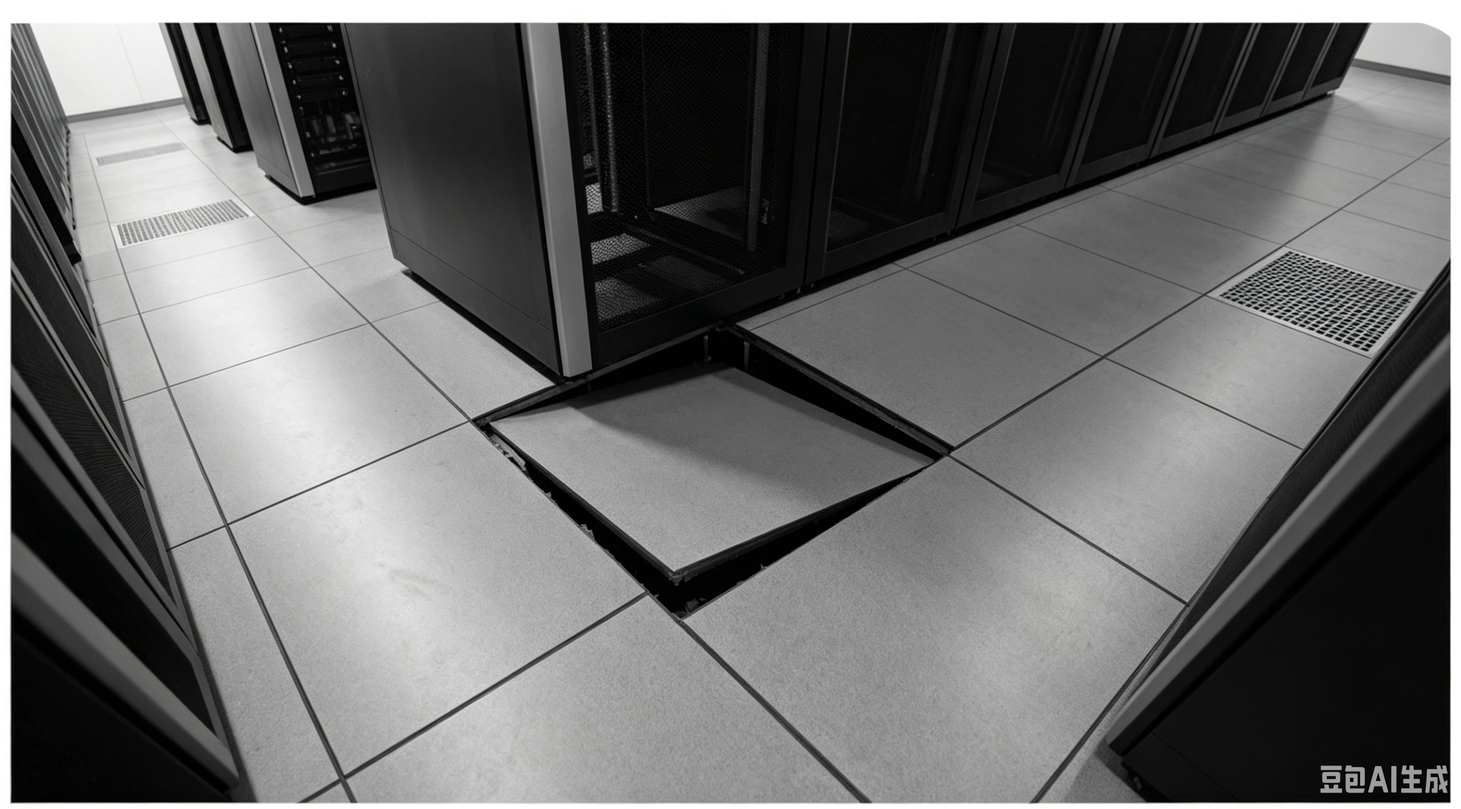floor_defect: (469, 315, 959, 621)
